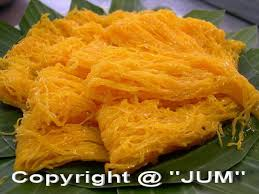foitong: (28, 13, 243, 68), (94, 44, 255, 114), (99, 102, 237, 159), (26, 56, 100, 122), (16, 117, 108, 167)
